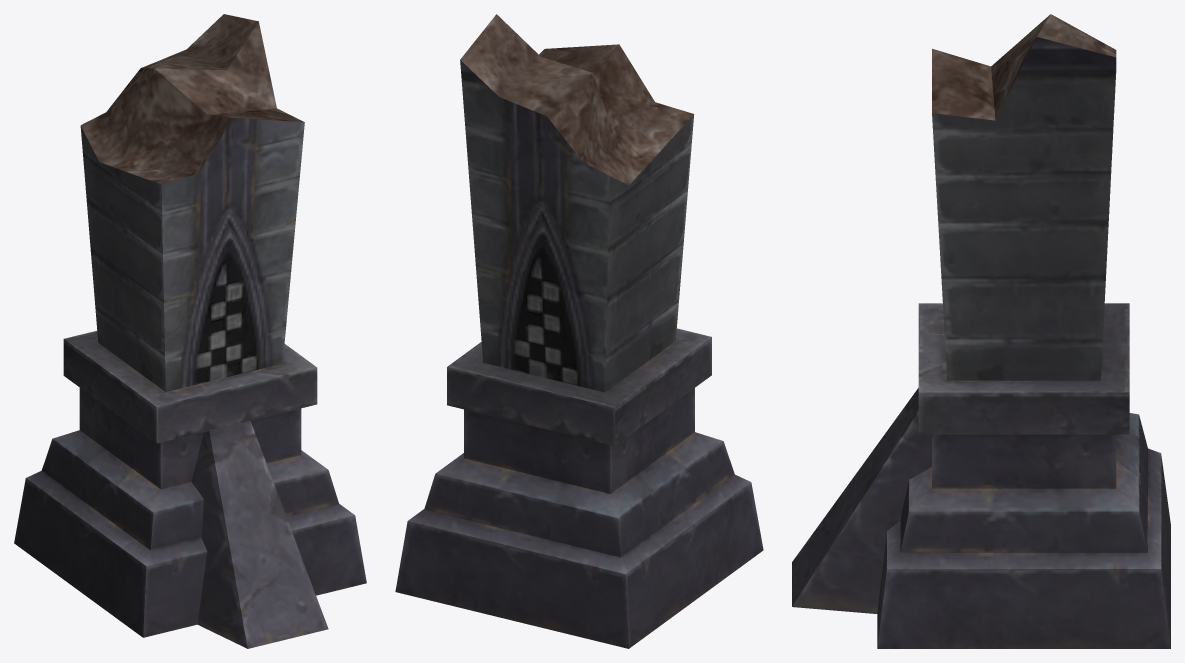
Rendered from building_underground_qiangmian_po_01.FBX.
The picture shows the model from 3 angles, left to right: view 1: azimuth 30°, elevation 25°; view 2: azimuth 150°, elevation 25°; view 3: azimuth 270°, elevation 25°; orthographic projection. The views are drawn at different scales.
Parts seen in each view (by area): view 1: building_underground_qiangmian_po_01; view 2: building_underground_qiangmian_po_01; view 3: building_underground_qiangmian_po_01.
Boxes of the visible parts, left/top/right/bottom form: building_underground_qiangmian_po_01: left=14, top=14, right=366, bottom=648; building_underground_qiangmian_po_01: left=395, top=14, right=763, bottom=648; building_underground_qiangmian_po_01: left=792, top=14, right=1170, bottom=648.
Bounding box in the file's own units: 2.39 × 5.31 × 3.09.
